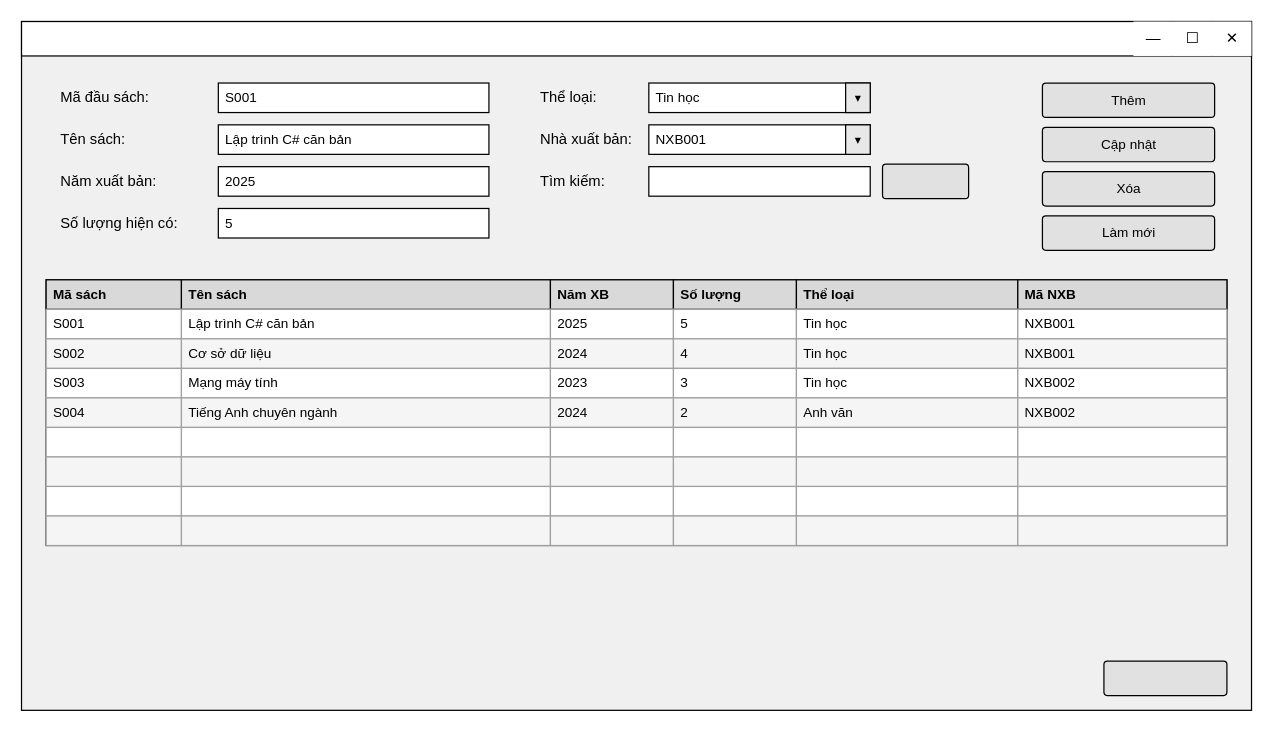
Image size: 1273x732. Some labels were removed from this diagram. Here are the shapes that lost their labels. From the top down, the box of each, then its label:
(20, 20, 1252, 56): Quản lý đầu sách
(881, 163, 969, 199): Tìm
(1103, 660, 1227, 696): Đóng
